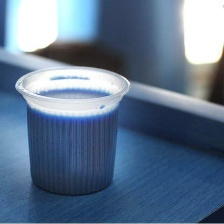glass: (11, 58, 130, 199)
